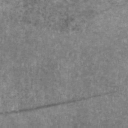finishing roll printing: (0, 90, 118, 115)
